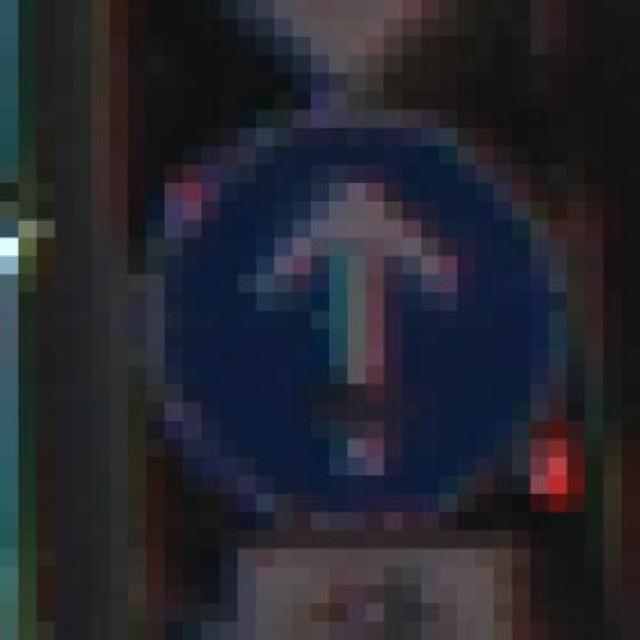Straight Ahead Only: (110, 110, 585, 512)
